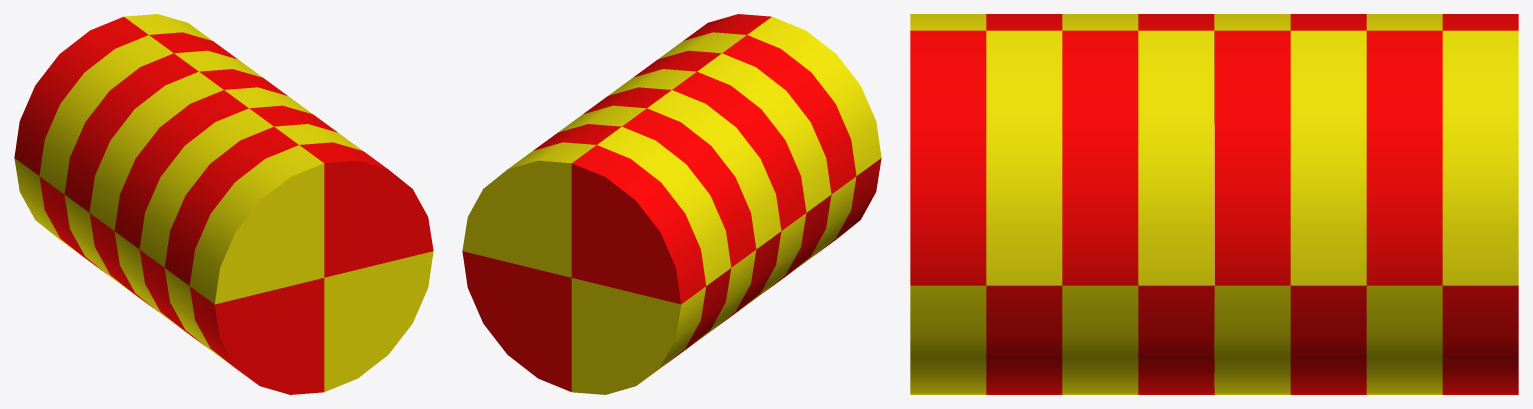
File: GANTRY5EJES_06.glb
The picture shows the model from 3 angles, left to right: view 1: azimuth 30°, elevation 25°; view 2: azimuth 150°, elevation 25°; view 3: azimuth 270°, elevation 25°; orthographic projection. The views are drawn at different scales.
Visible parts, largest first — view 1: Cylinder004, Object014; view 2: Cylinder004, Object014; view 3: Cylinder004, Object014.
Boxes of the visible parts, x1=… form: Cylinder004: x1=14, y1=14, x2=433, y2=391; Object014: x1=14, y1=16, x2=433, y2=394; Cylinder004: x1=462, y1=16, x2=881, y2=394; Object014: x1=462, y1=14, x2=881, y2=391; Cylinder004: x1=910, y1=14, x2=1518, y2=394; Object014: x1=910, y1=14, x2=1518, y2=394.
Size of the model in its own units: 1009 by 1009 by 1600.
